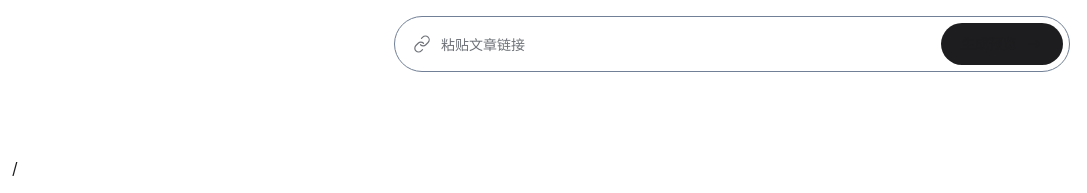
Test: New 页面 › 清除按钮清空输入并聚焦
Type "example.com" into the field labelled "文章链接" at (686, 44), box [441,23,931,65]
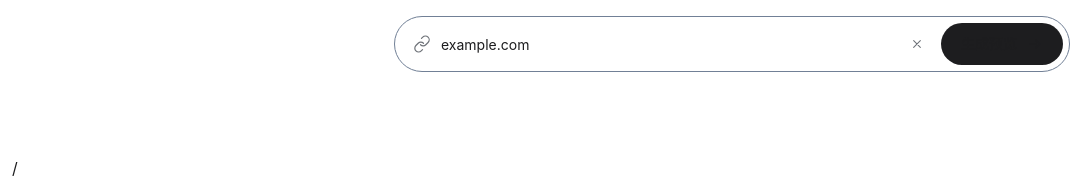
Click the button named "清除链接" at (917, 44), box [903,30,931,58]
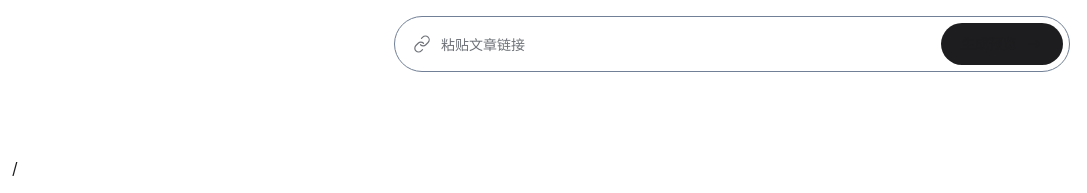
Expected: the field labelled "文章链接" is empty, [441,23,931,65]
Expected: the button "清除链接" is gone
